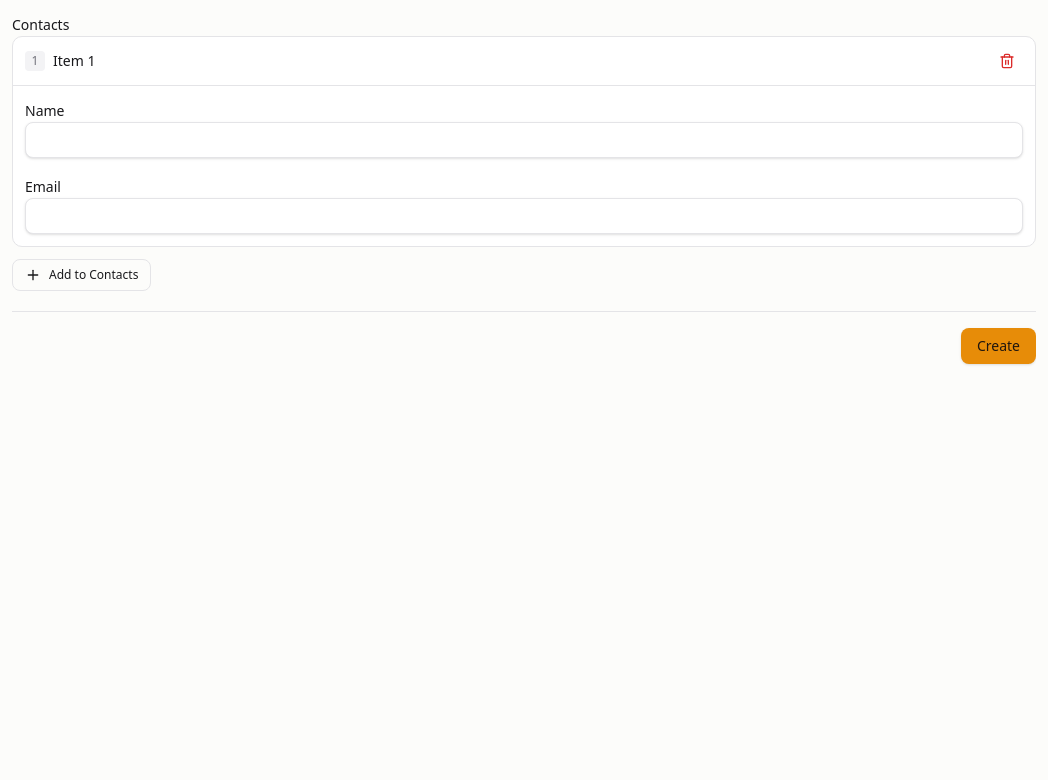
Test case: add, delete, clone › hides the add button once maxItems is reached
Click the button "Add to Contacts": click(82, 275) 12,259 -> 151,291
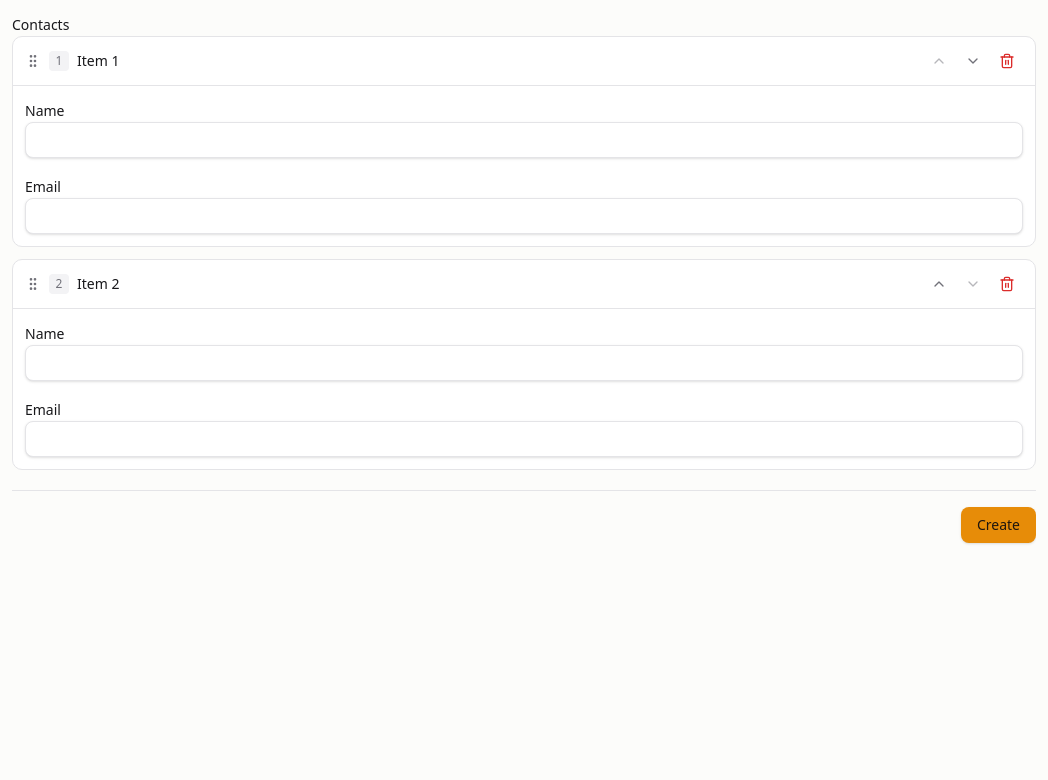
Now the button "Add to Contacts" is gone
